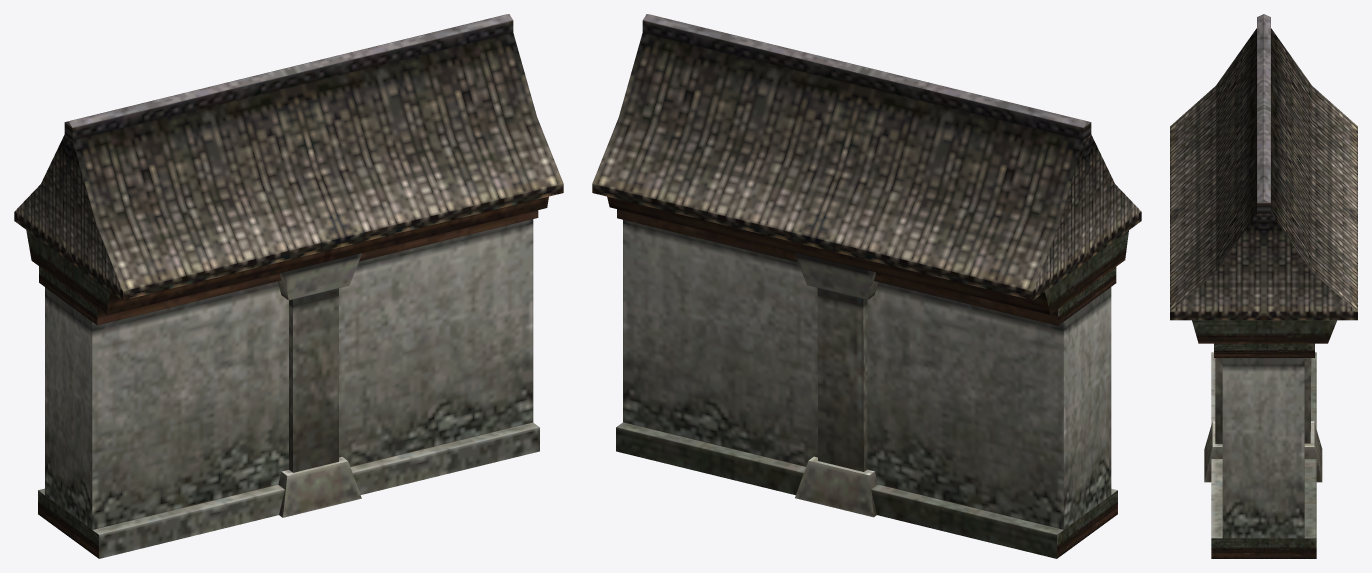
File: b1-038-wall-lin.glb
3 renders of one model, left to right at view 1: azimuth 30°, elevation 25°; view 2: azimuth 150°, elevation 25°; view 3: azimuth 270°, elevation 25°, orthographic. The views are drawn at different scales.
Parts seen in each view (by area): view 1: b1-038-wall; view 2: b1-038-wall; view 3: b1-038-wall.
Part boxes in pixels (bbox=[...]): b1-038-wall: bbox=[14, 14, 563, 558]; b1-038-wall: bbox=[592, 14, 1141, 558]; b1-038-wall: bbox=[1170, 14, 1357, 558].
Size of the model in its own units: 5 by 4.5 by 2.13.
1 material, 1 textured.
